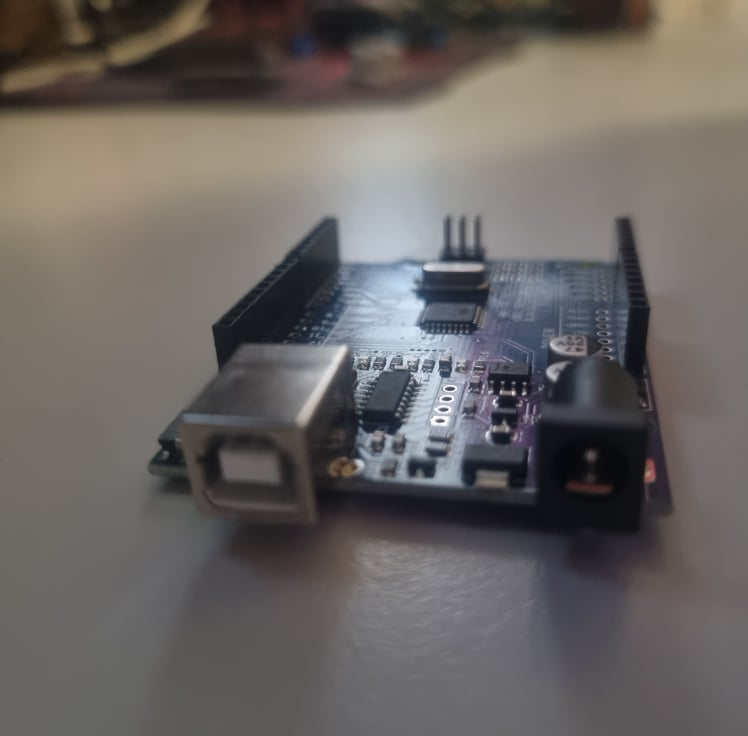UNO R3: (143, 216, 678, 542)
